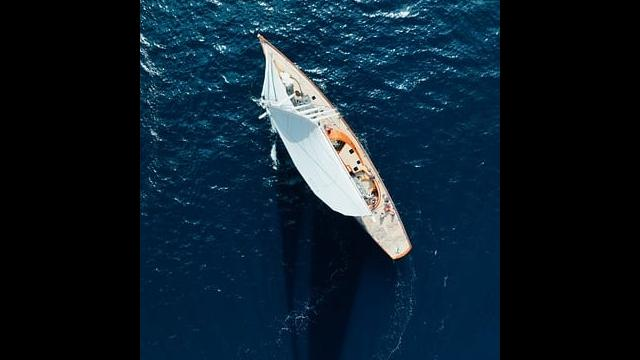Non_Gorille: (199, 0, 457, 294)
